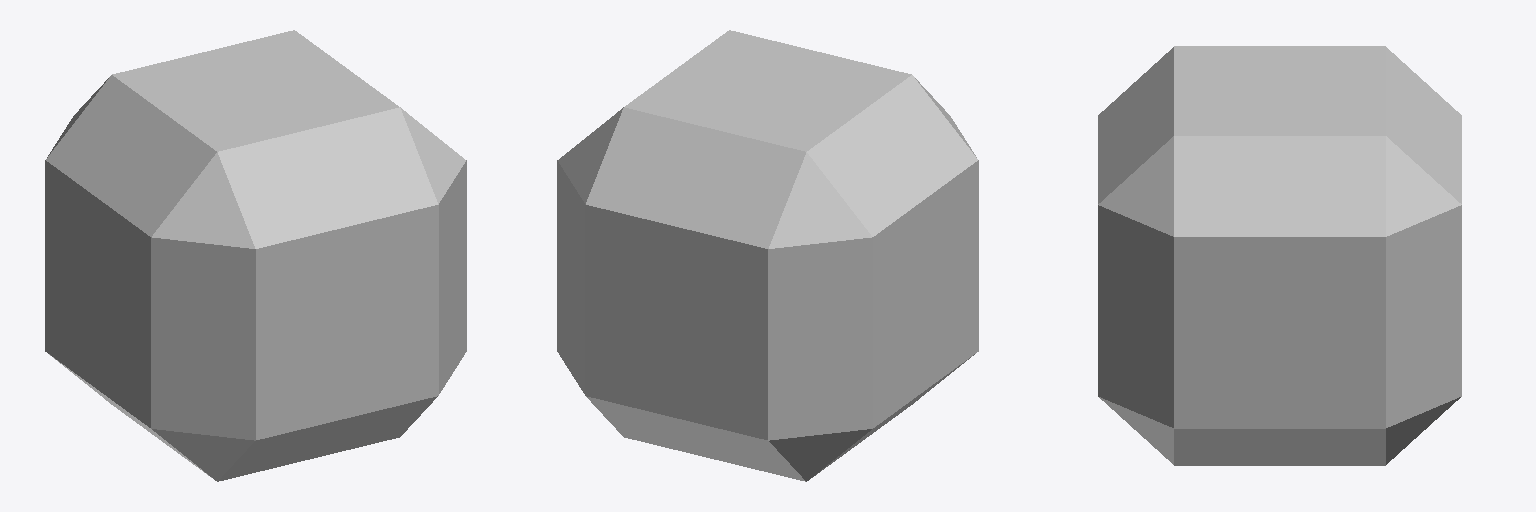
The model's file is sun.obj.
3 views of the same model, side by side, from view 1: azimuth 30°, elevation 25°; view 2: azimuth 150°, elevation 25°; view 3: azimuth 270°, elevation 25° (orthographic).
Parts seen in each view (by area): view 1: Cube; view 2: Cube; view 3: Cube.
Boxes of the visible parts, <box> form: Cube: <box>45,30,466,481</box>; Cube: <box>557,30,978,481</box>; Cube: <box>1098,46,1461,465</box>.
Bounding box in the file's own units: 0.6481 × 0.6481 × 0.6481.